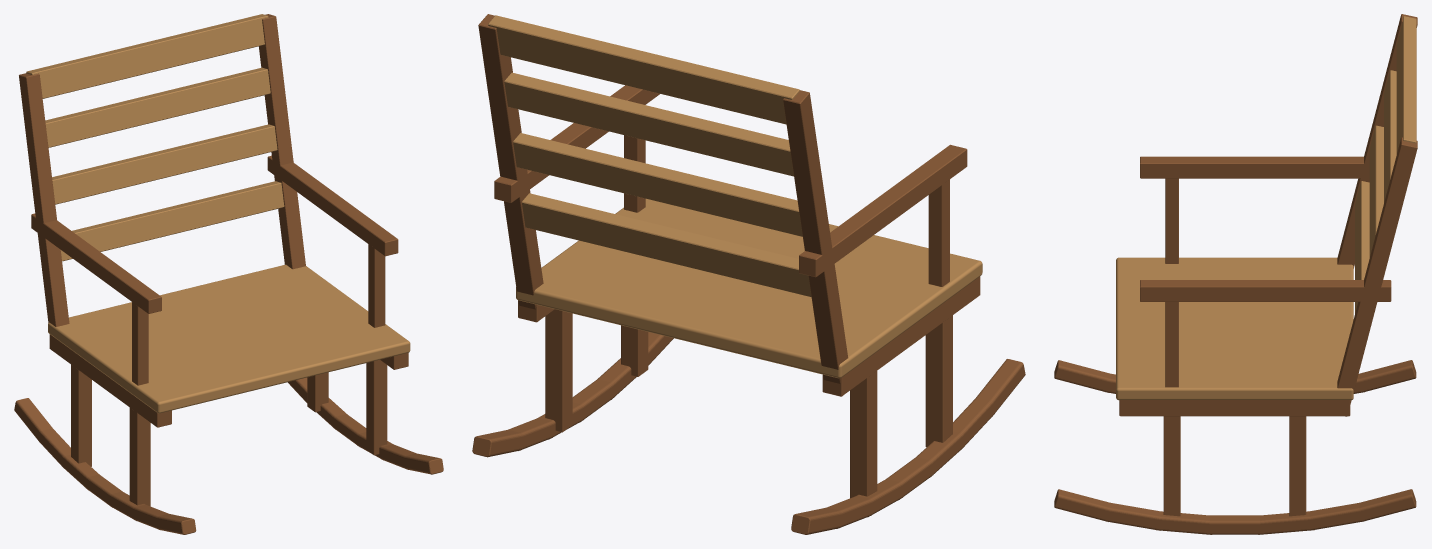
The model's file is cabin-rocking-chair.glb.
3 renders of one model, left to right at view 1: azimuth 30°, elevation 25°; view 2: azimuth 150°, elevation 25°; view 3: azimuth 270°, elevation 25°, orthographic. The views are drawn at different scales.
Visible parts, largest first — view 1: seat, back.rail.4, back.rail.2, back.rail.3, back.rail.1, back.stile.left, back.stile.right, arm.right, arm.left, leg.front.left, leg.front.right, leg.back.left (+12 smaller); view 2: seat, back.rail.4, back.rail.2, back.rail.3, back.rail.1, back.stile.left, back.stile.right, arm.left, leg.front.left, leg.back.left, leg.back.right, seat.rail.left (+15 smaller); view 3: seat, arm.right, arm.left, back.stile.right, seat.rail.right, back.rail.4, back.stile.left, leg.front.right, leg.back.right, back.rail.2, back.rail.1, back.rail.3 (+11 smaller).
Part boxes in pixels (box(x1,y1,x2,y2)): seat: box(48, 264, 410, 413); back.rail.4: box(26, 14, 268, 98); back.rail.2: box(52, 124, 277, 204); back.rail.3: box(45, 67, 270, 147); back.rail.1: box(60, 181, 284, 261); back.stile.left: box(19, 73, 69, 326); back.stile.right: box(258, 14, 305, 269); arm.right: box(267, 155, 398, 256); arm.left: box(31, 213, 161, 313); leg.front.left: box(129, 407, 150, 506); leg.front.right: box(366, 360, 387, 455); leg.back.left: box(71, 364, 91, 466); seat: box(516, 198, 982, 378); back.rail.4: box(488, 15, 799, 124); back.rail.2: box(513, 133, 802, 236); back.rail.3: box(504, 72, 793, 176); back.rail.1: box(522, 193, 811, 297); back.stile.left: box(783, 90, 848, 383); back.stile.right: box(478, 14, 543, 309); arm.left: box(799, 144, 967, 277); leg.front.left: box(925, 315, 952, 447); leg.back.left: box(850, 371, 877, 498); leg.back.right: box(545, 309, 572, 432); seat.rail.left: box(822, 276, 980, 396); seat: box(1116, 257, 1353, 400); arm.right: box(1140, 280, 1391, 301); arm.left: box(1140, 156, 1369, 178); back.stile.right: box(1337, 137, 1417, 416); seat.rail.right: box(1119, 400, 1350, 416); back.rail.4: box(1396, 16, 1416, 154); back.stile.left: box(1337, 14, 1417, 268); leg.front.right: box(1163, 416, 1180, 516); leg.back.right: box(1289, 416, 1306, 516); back.rail.2: box(1369, 125, 1383, 257); back.rail.1: box(1355, 181, 1369, 313); back.rail.3: box(1384, 70, 1396, 202).
Size of the model in its own units: 0.95 by 1.27 by 1.07.
